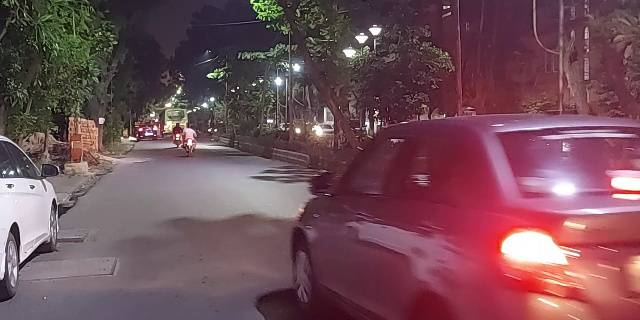Car: (289, 115, 639, 320)
Motorbike: (181, 123, 199, 159), (170, 117, 184, 149)
